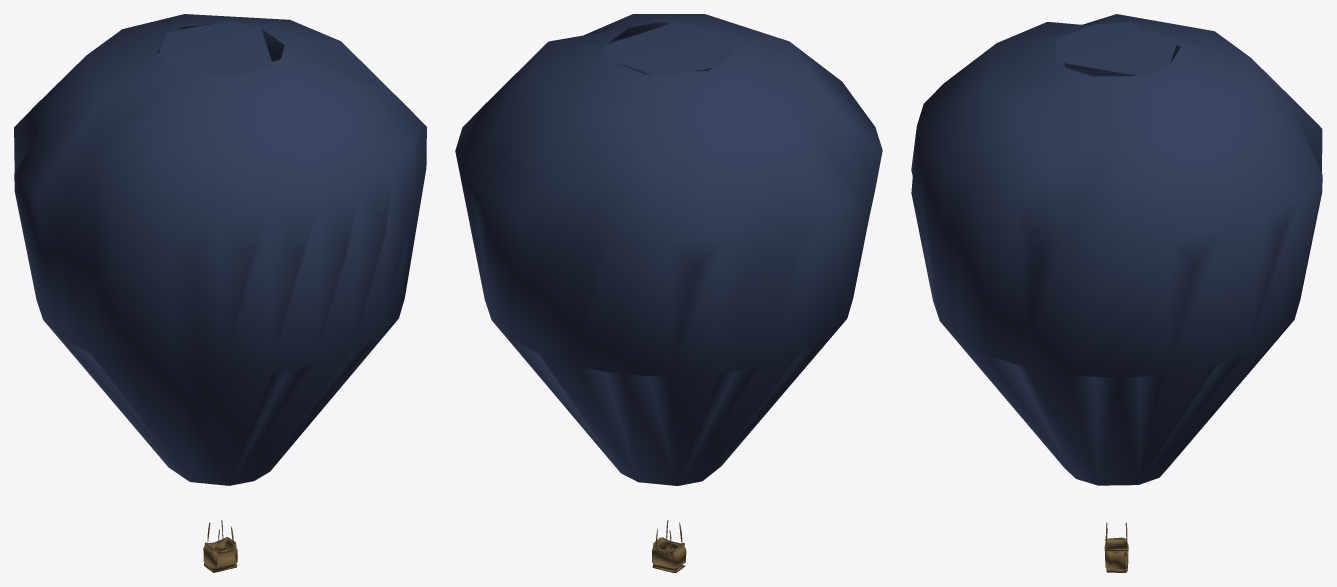
File: multiplayer-low.glb
3 views of the same model, side by side, from view 1: azimuth 30°, elevation 25°; view 2: azimuth 150°, elevation 25°; view 3: azimuth 270°, elevation 25° (orthographic).
Parts seen in each view (by area): view 1: canopy, gondola; view 2: canopy, gondola; view 3: canopy, gondola.
Part boxes in pixels (x1,y1,x2,y2): canopy: [14, 14, 426, 485]; gondola: [203, 520, 237, 572]; canopy: [455, 14, 882, 485]; gondola: [652, 520, 686, 572]; canopy: [911, 14, 1322, 485]; gondola: [1104, 522, 1128, 572].
Bounding box in the file's own units: 23.37 × 31.43 × 22.56.
